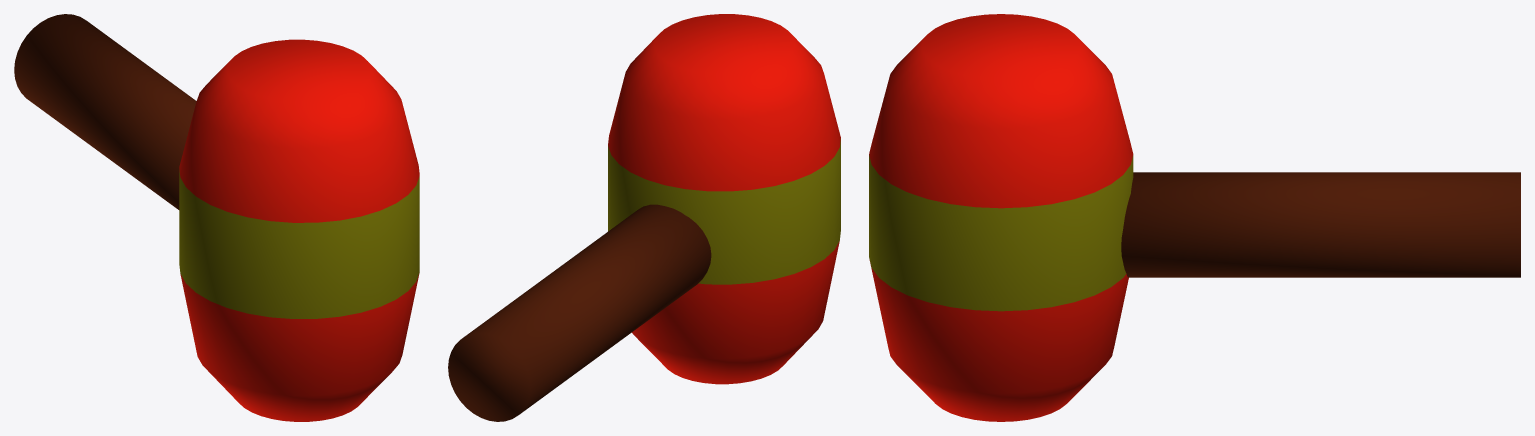
Rendered from Hammer.fbx.
3 views of the same model, side by side, from view 1: azimuth 30°, elevation 25°; view 2: azimuth 150°, elevation 25°; view 3: azimuth 270°, elevation 25° (orthographic). The views are drawn at different scales.
Visible parts, largest first — view 1: HammerHead, HoldingPole; view 2: HammerHead, HoldingPole; view 3: HammerHead, HoldingPole.
Part boxes in pixels (box(x1,y1,x2,y2)): HammerHead: box(179, 39, 419, 421); HoldingPole: box(14, 14, 196, 209); HammerHead: box(608, 14, 840, 384); HoldingPole: box(448, 204, 711, 421); HammerHead: box(869, 14, 1133, 421); HoldingPole: box(1121, 172, 1520, 277).
Bounding box in the file's own units: 135 × 202 × 344.
